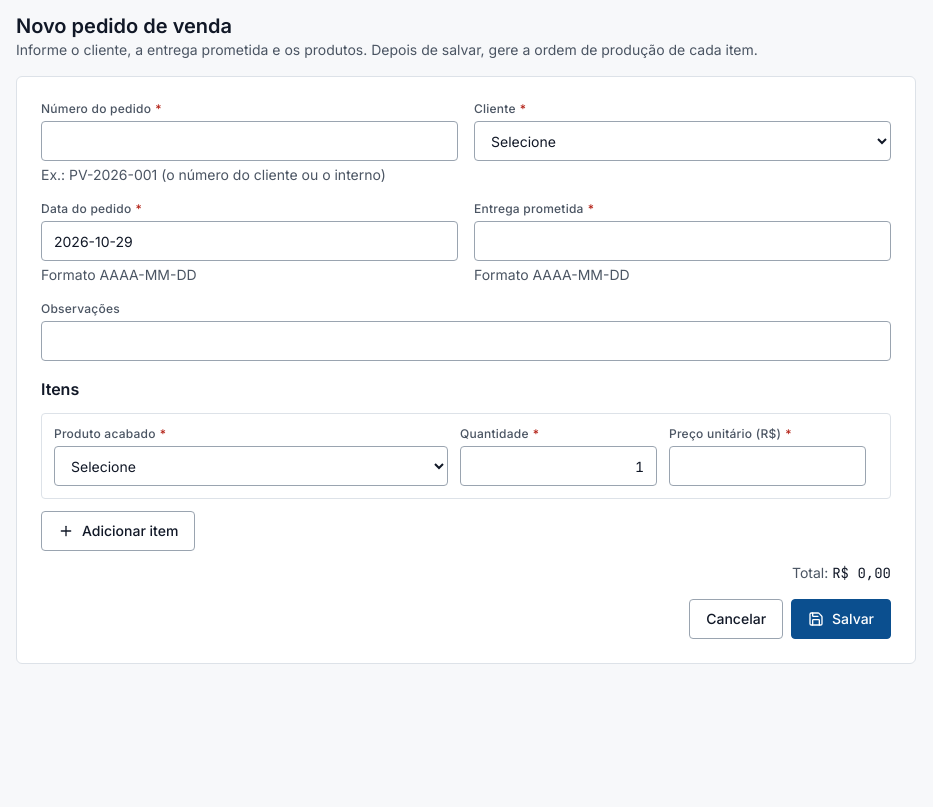
Pedidos de venda › nao envia com entrega antes do pedido nem produto repetido
Type "PV-9" into the field labelled "Número do pedido*" at (250,141), box [41,121,458,161]
Select "DER Teste" in the dropdown labelled "Cliente*" at (682,141), box [474,121,891,161]
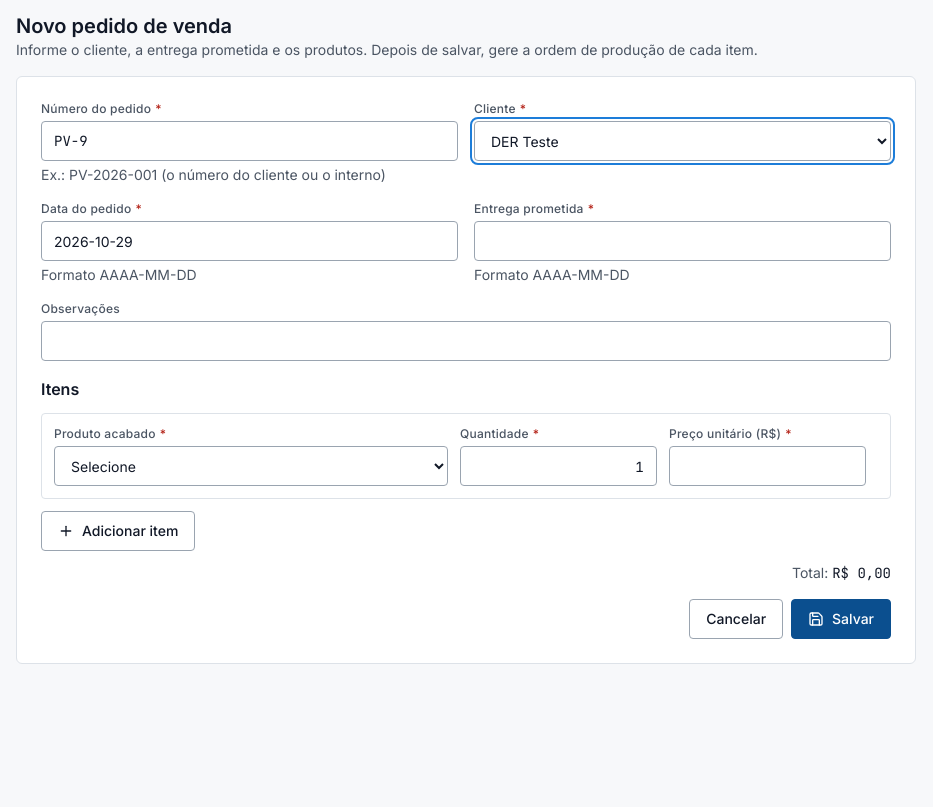
Replace the text in the field labelled "Data do pedido*" with "2026-10-24" at (250,241), box [41,221,458,261]
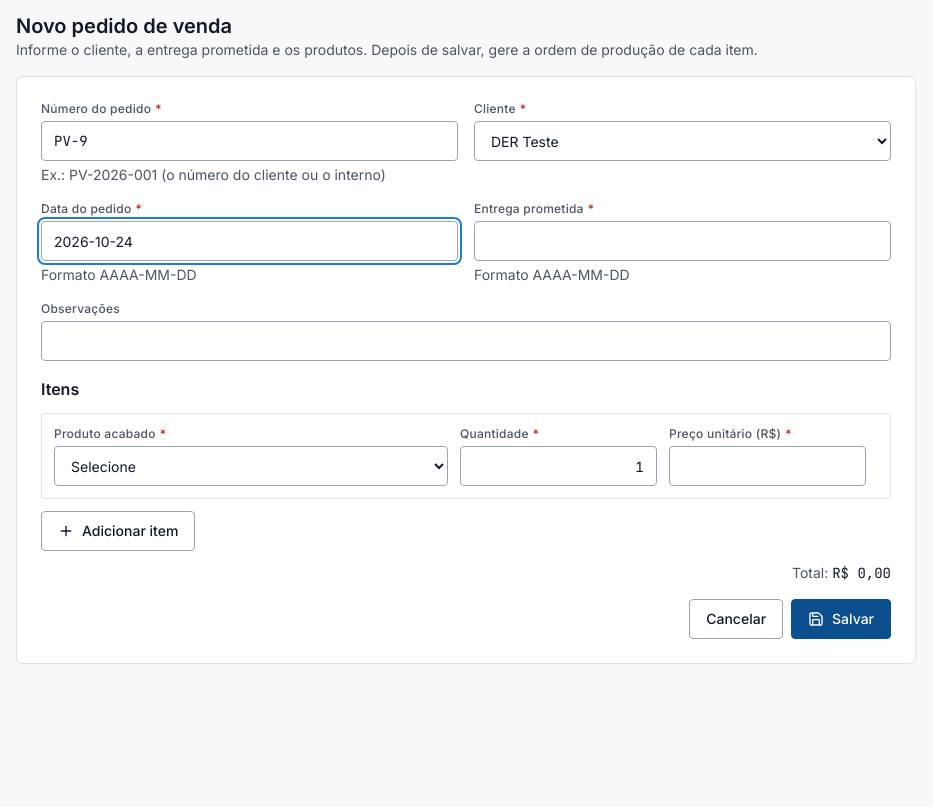
Type "2026-10-01" into the field labelled "Entrega prometida*" at (682,241), box [474,221,891,261]
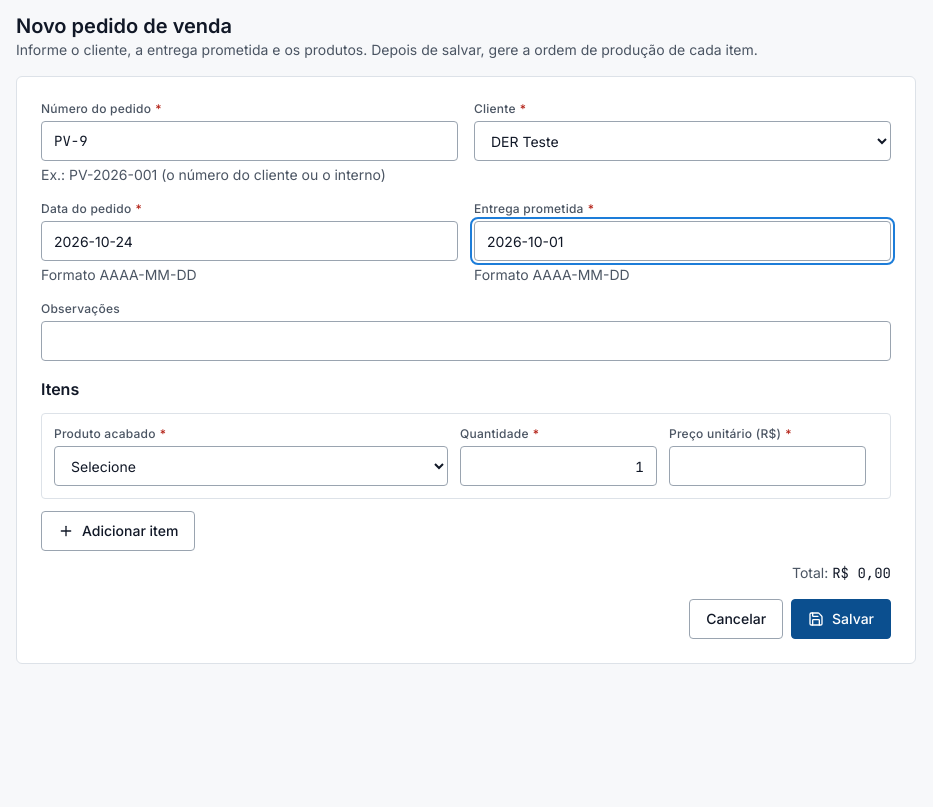
Select "RAD-200 — Radar" in the dropdown labelled "Produto acabado*" at (251,466), box [54,446,448,486]
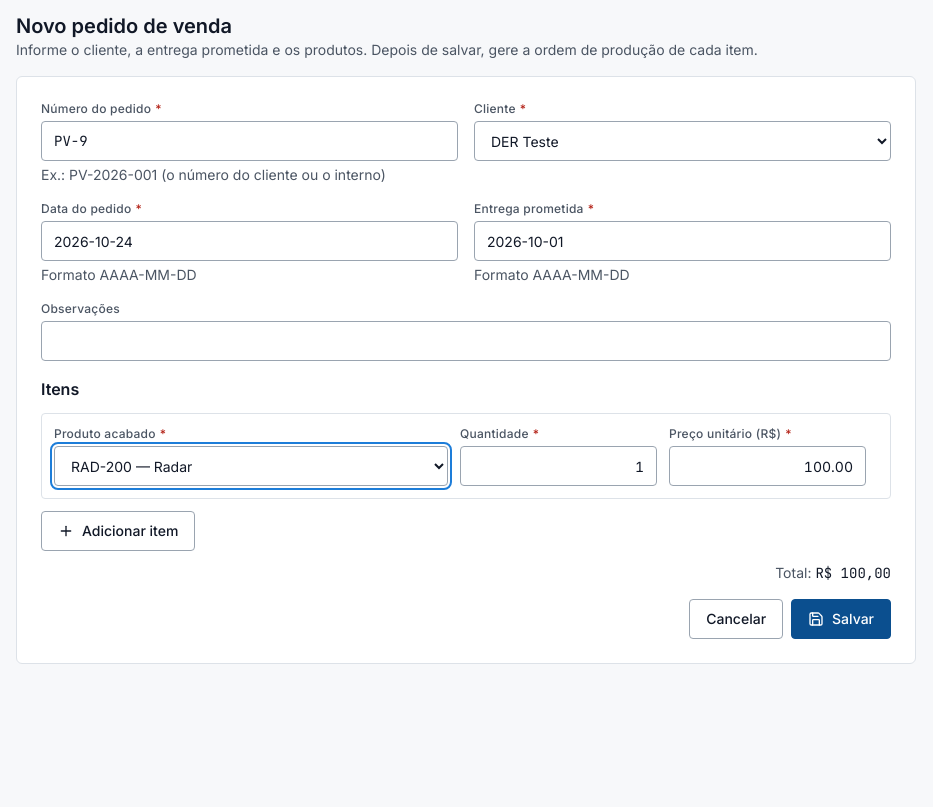
Click the button "Adicionar item" at (118,531), box [41,511,195,551]
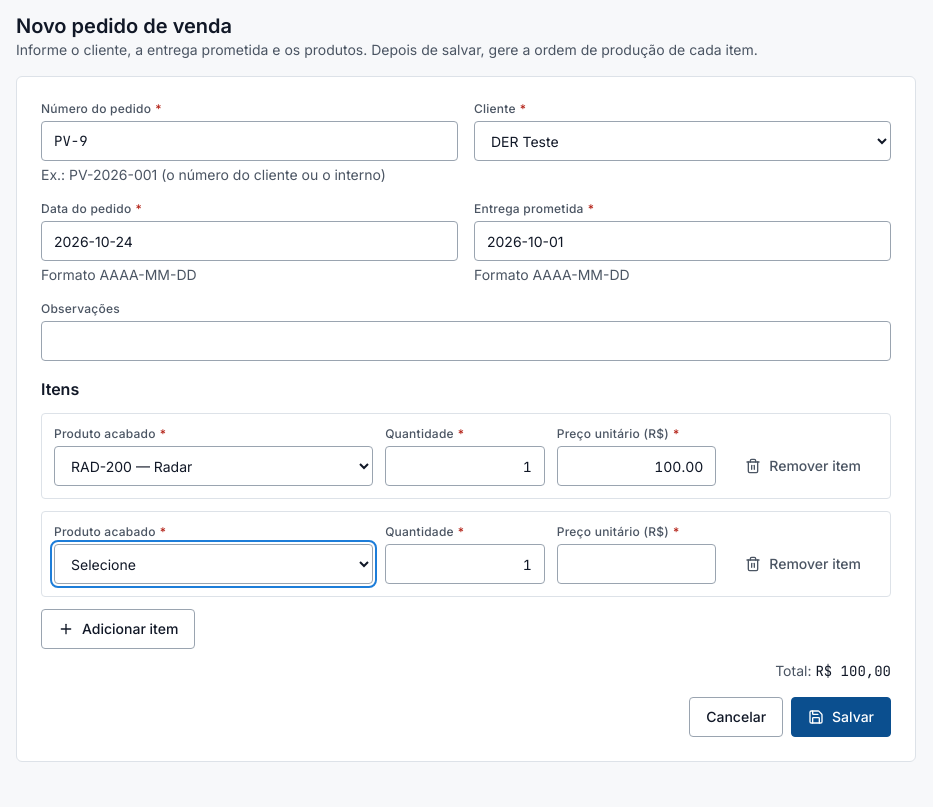
Select "RAD-200 — Radar" in the 2nd dropdown labelled "Produto acabado*" at (214,564), box [54,544,373,584]
Click the button "Salvar" at (841,717), box [791,697,891,737]
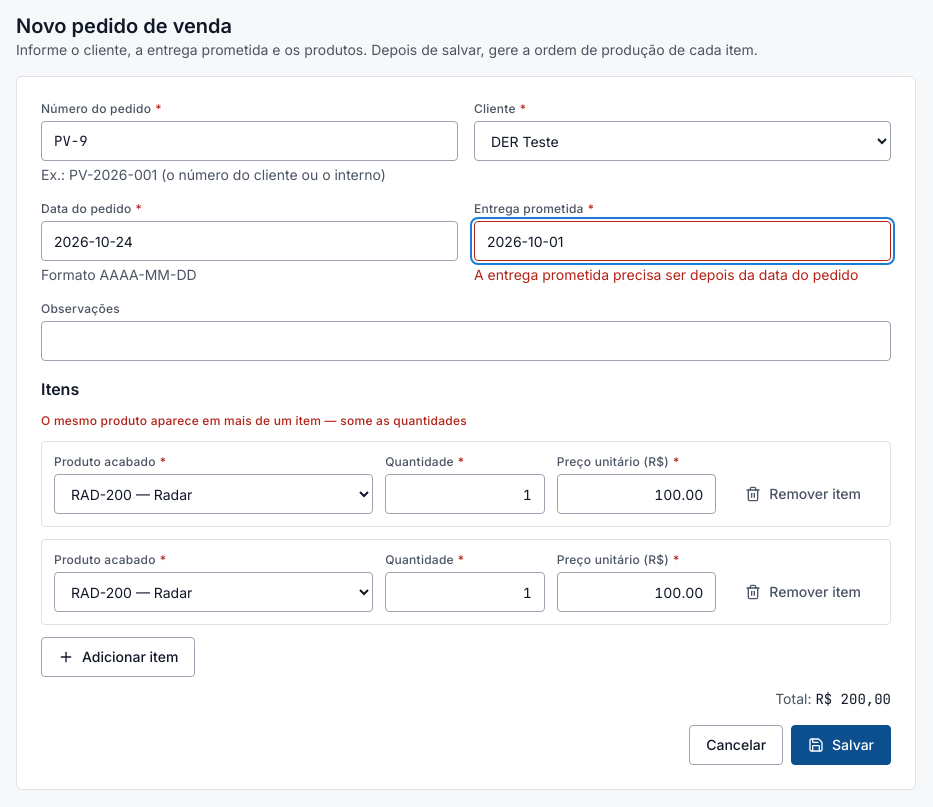
Expected: the text "A entrega prometida precisa ser depois da data do pedido" is shown, [474,265,891,285]
Expected: the text "O mesmo produto aparece em mais de um item — some as quantidades" is shown, [41,413,467,428]
